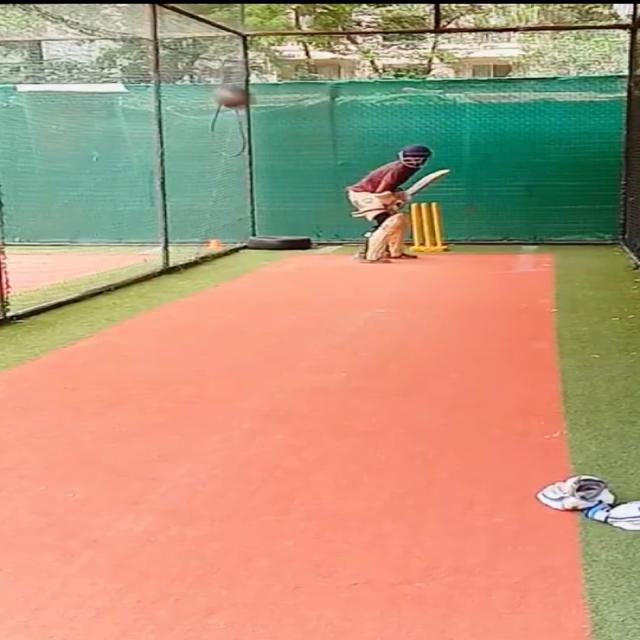stump: (410, 200, 448, 252)
